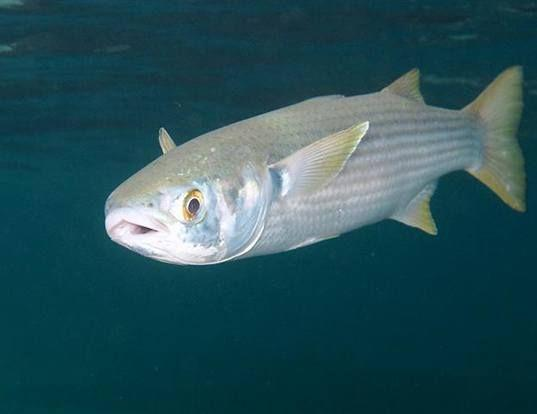Mullet: (99, 63, 533, 270)
